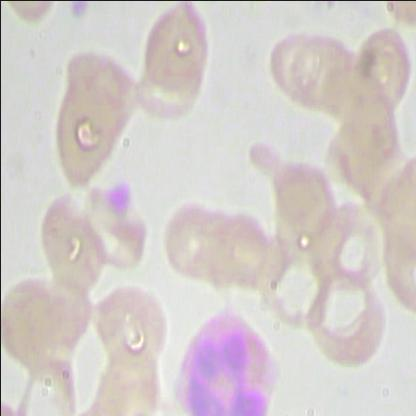Platelets: (106, 176, 136, 210), (61, 1, 91, 20)
RBC: (43, 41, 141, 190), (302, 262, 390, 368), (256, 235, 334, 332), (308, 195, 386, 292), (159, 192, 234, 290), (36, 192, 111, 290), (92, 272, 166, 370), (138, 1, 214, 95), (1, 270, 66, 368)
WBC: (166, 308, 284, 416)
